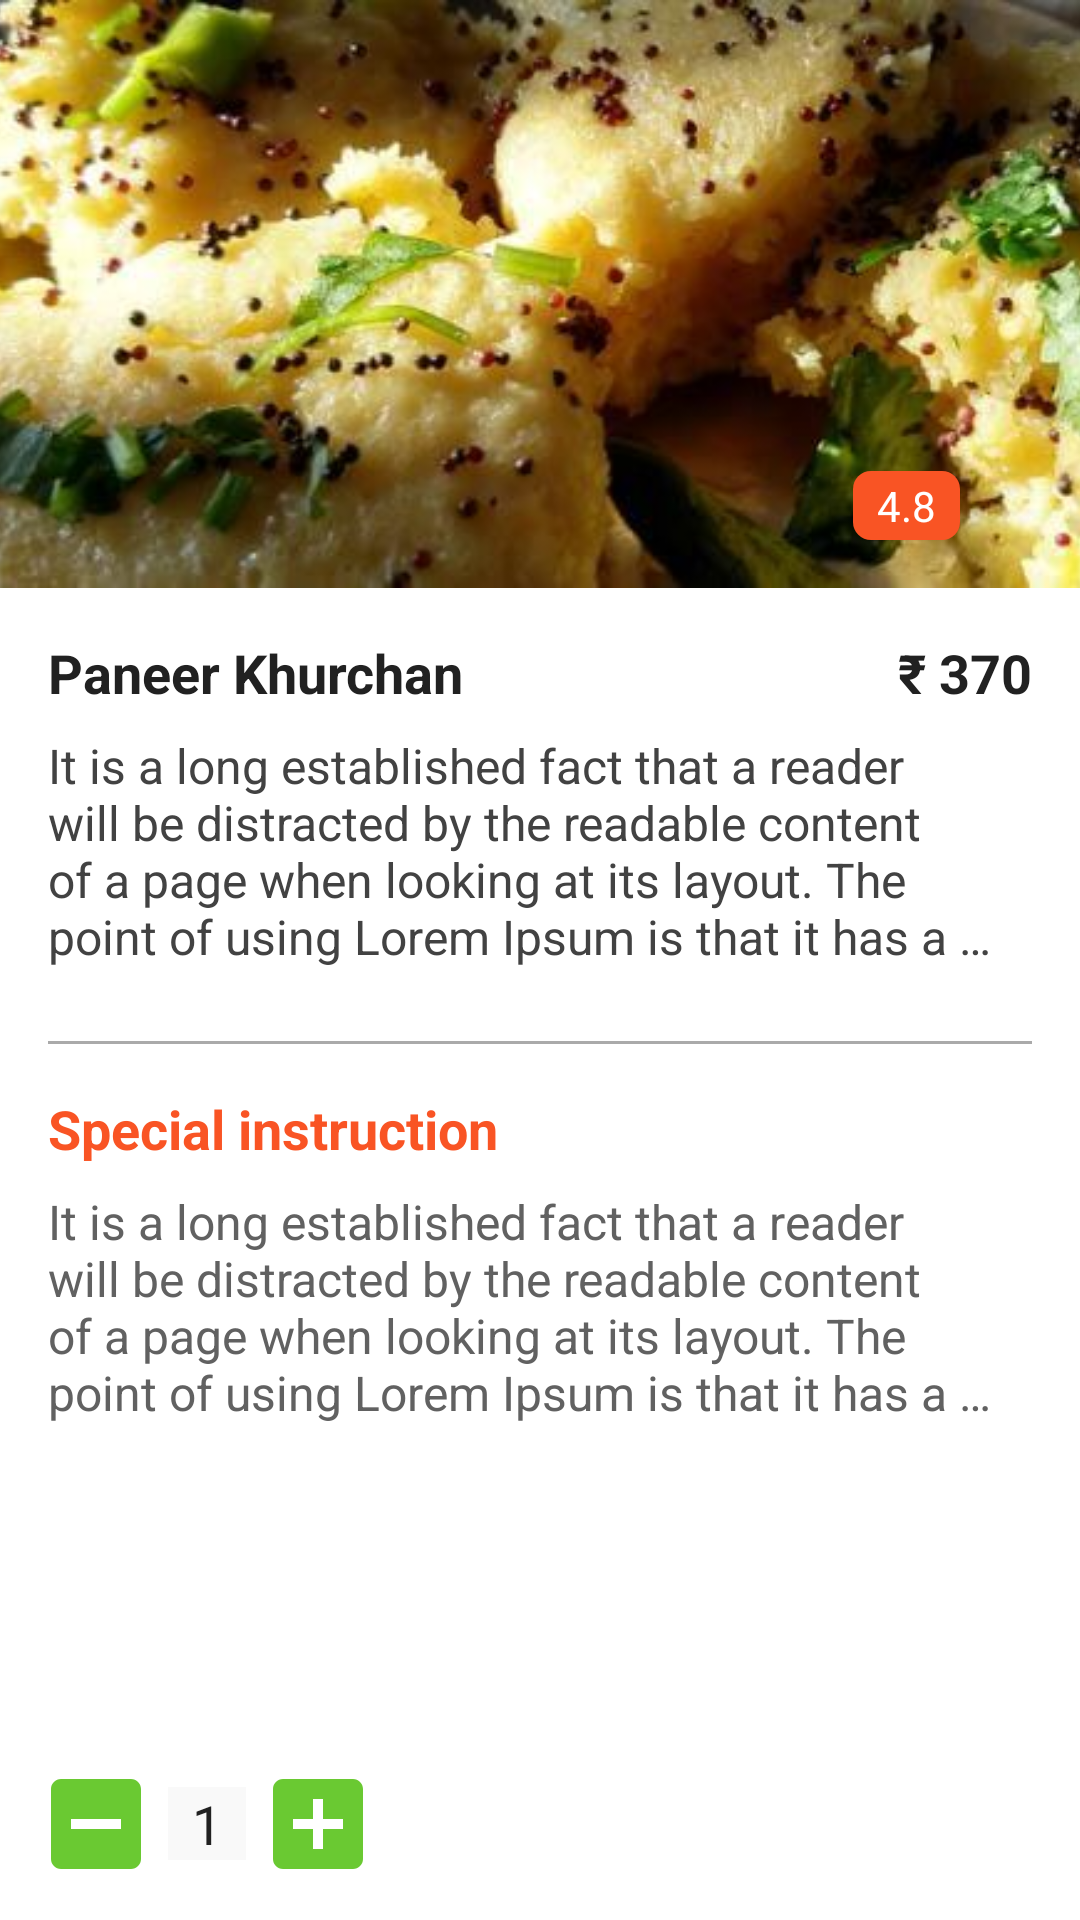

Named icons in this screenshot (1080x1920) and their bounding boxes, (x1, y1, x2, y2):
minus: (51, 1779, 141, 1869)
plus: (273, 1779, 363, 1869)
